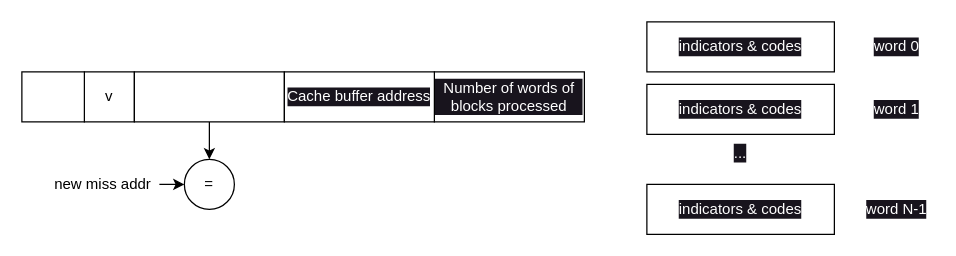
Image size: 956x256. Some labels were removed from this diagram. Each missing label, with the centre of its shape:
"input request addr" goes at (x=208, y=96).
"Obsolete" goes at (x=52, y=96).
